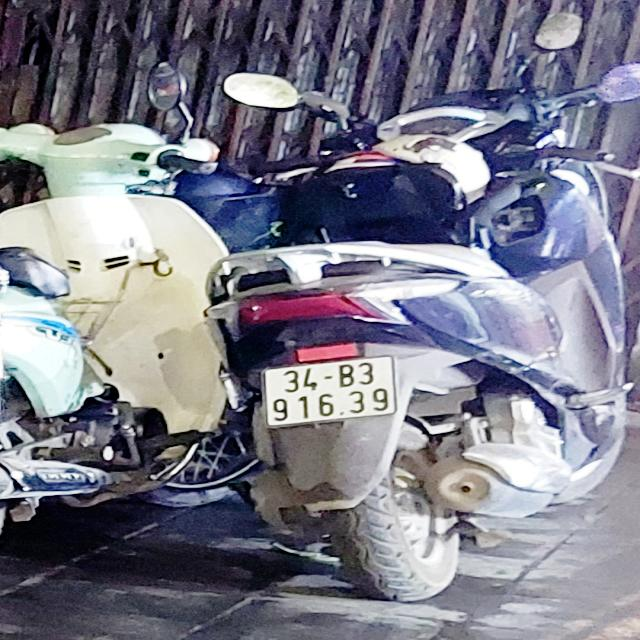license_plate: (267, 350, 404, 427)
